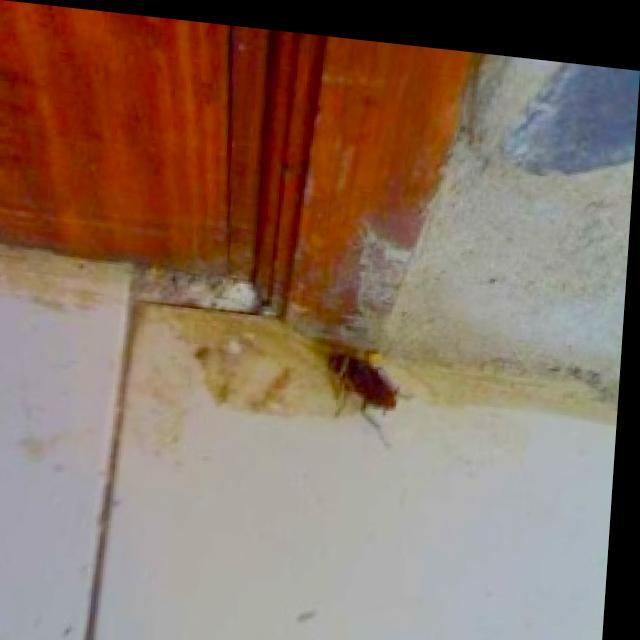cockroach: (311, 322, 411, 462)
